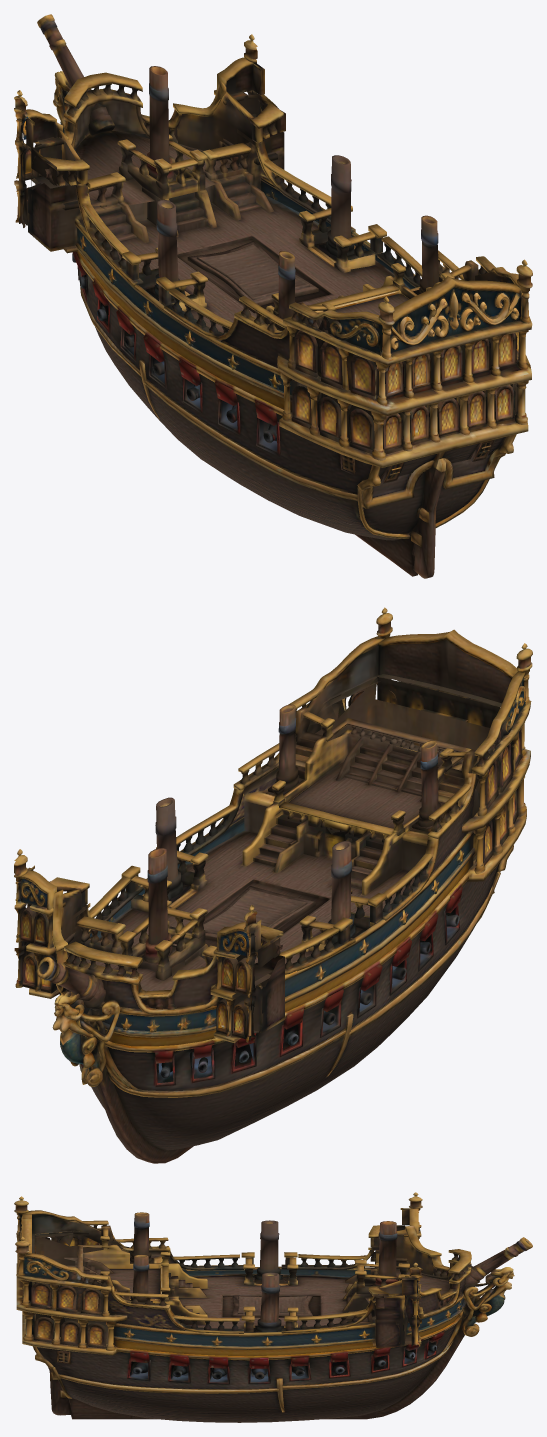
Rendered from galleon-hull.glb.
3 renders of one model, top to bottom at view 1: azimuth 30°, elevation 25°; view 2: azimuth 150°, elevation 25°; view 3: azimuth 270°, elevation 25°, orthographic. The views are drawn at different scales.
Parts seen in each view (by area): view 1: tripo_node_8ca17358; view 2: tripo_node_8ca17358; view 3: tripo_node_8ca17358.
Part boxes in pixels (left/top/right/bottom): tripo_node_8ca17358: left=14, top=14, right=532, bottom=578; tripo_node_8ca17358: left=14, top=607, right=532, bottom=1163; tripo_node_8ca17358: left=14, top=1192, right=532, bottom=1422.
Bounding box in the file's own units: 19.67 × 26.3 × 61.
1 material, 1 textured.
